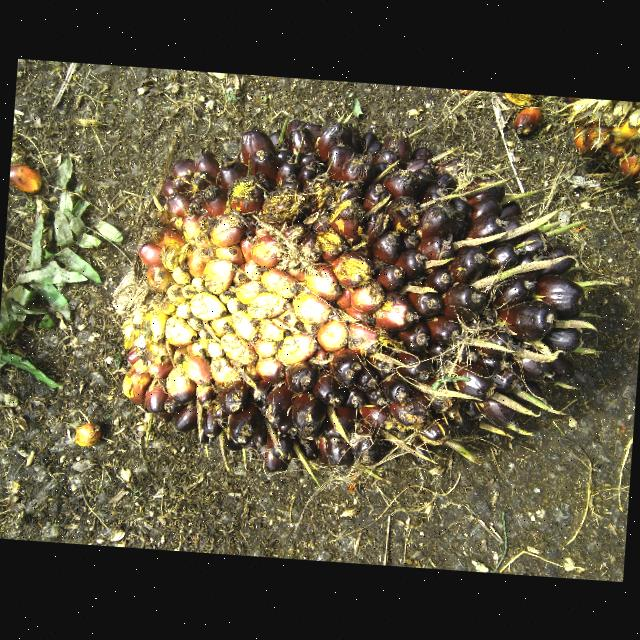Unripe: (115, 118, 593, 470)
